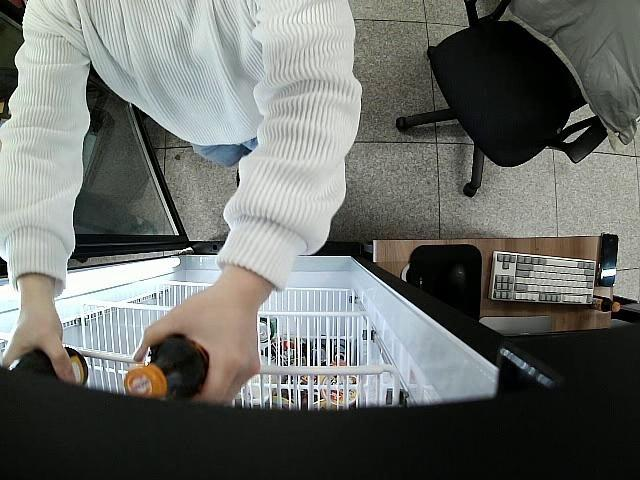17_vita500: (125, 337, 214, 404), (11, 345, 88, 389)
